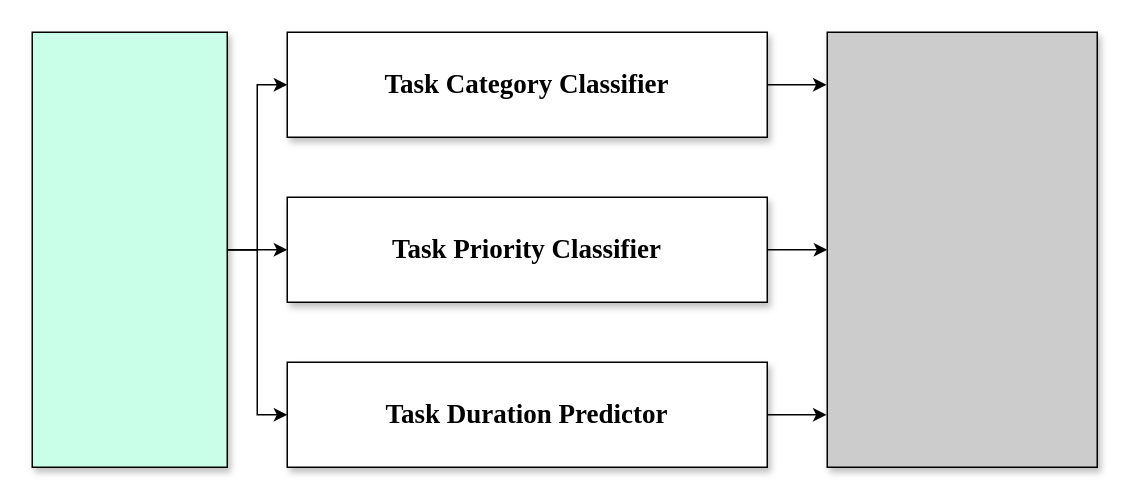
Some shapes in this 1133 by 504 pixel diagram are drawn without their labels. Each missing label, with the centre of its shape:
"Click Up Api Integration" belongs at (x=963, y=251).
"Input" belongs at (x=130, y=251).
